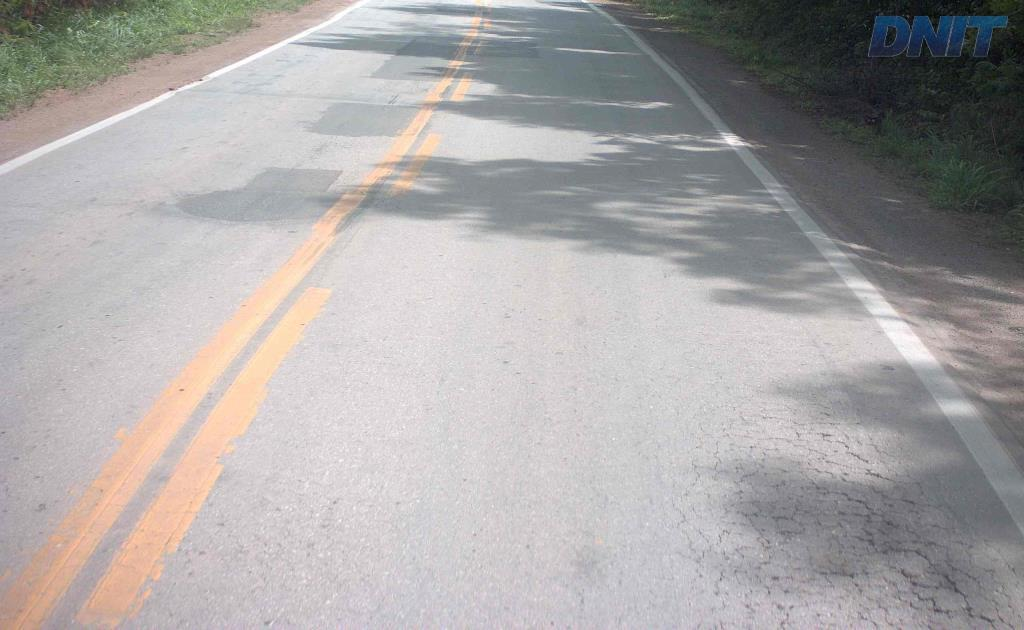crack: (897, 547, 974, 618)
